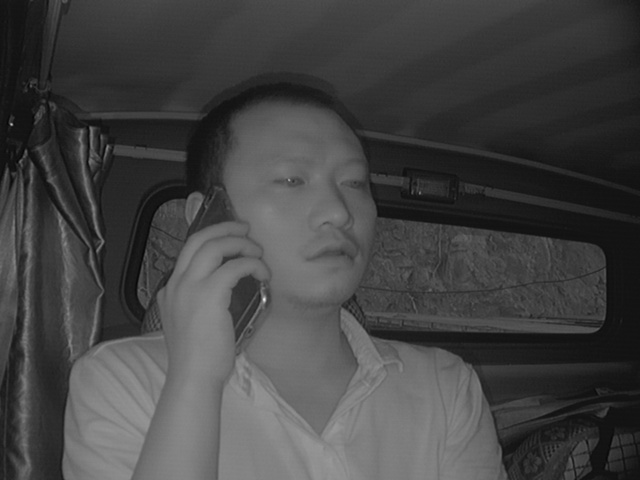hand: (159, 222, 266, 372)
